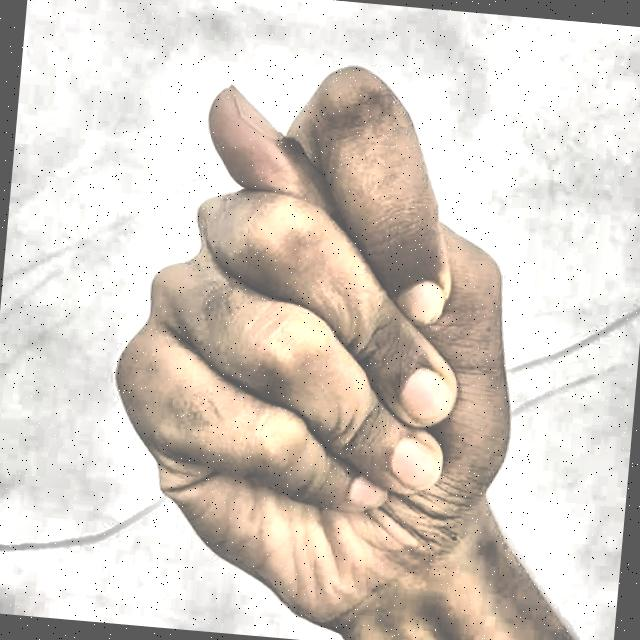Ta: (74, 25, 587, 640)
